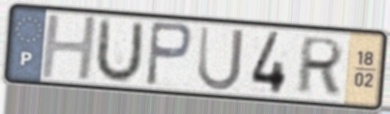4: (248, 29, 290, 97)
H: (38, 14, 100, 82)
P: (143, 19, 195, 90)
R: (292, 34, 347, 96)
U: (91, 15, 147, 85), (195, 23, 247, 93)
